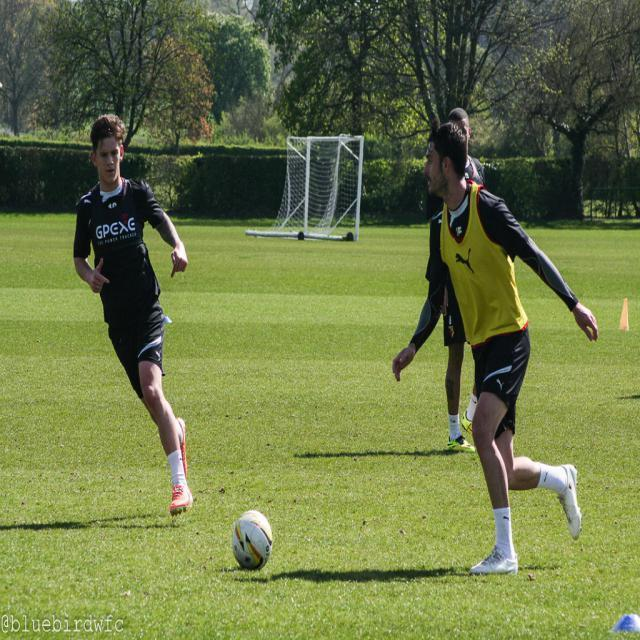ball: (231, 510, 271, 570)
